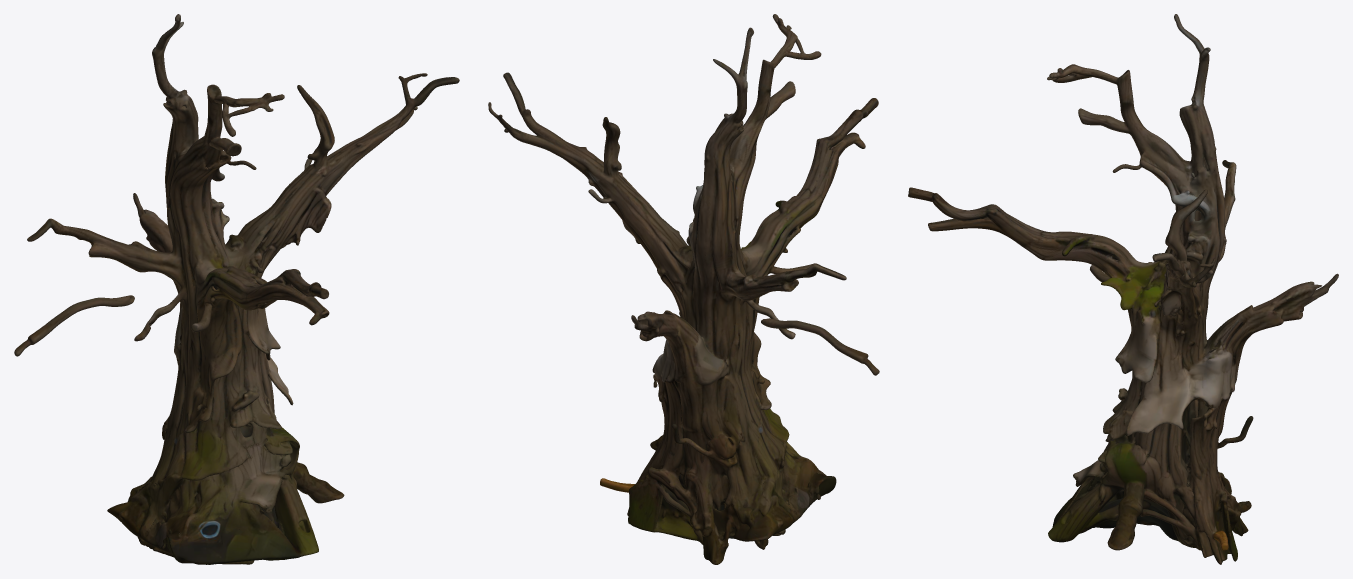
Rendered from deadtree.glb.
3 renders of one model, left to right at view 1: azimuth 30°, elevation 25°; view 2: azimuth 150°, elevation 25°; view 3: azimuth 270°, elevation 25°, orthographic. The views are drawn at different scales.
Parts seen in each view (by area): view 1: tripo_node_96cca60d-398d-42eb-b6b0-d6d213bb0d99; view 2: tripo_node_96cca60d-398d-42eb-b6b0-d6d213bb0d99; view 3: tripo_node_96cca60d-398d-42eb-b6b0-d6d213bb0d99.
Part boxes in pixels (left/top/right/bottom): tripo_node_96cca60d-398d-42eb-b6b0-d6d213bb0d99: left=14, top=14, right=459, bottom=564; tripo_node_96cca60d-398d-42eb-b6b0-d6d213bb0d99: left=488, top=14, right=879, bottom=564; tripo_node_96cca60d-398d-42eb-b6b0-d6d213bb0d99: left=908, top=14, right=1338, bottom=564.
Size of the model in its own units: 0.818 by 1 by 0.7554.
Materials: 1 (1 with a texture image).
